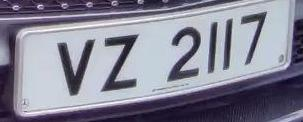1: (202, 17, 221, 81), (220, 11, 235, 78)
2: (164, 22, 206, 85)
7: (237, 8, 272, 72)
V: (51, 33, 99, 99)
Z: (99, 28, 144, 97)
